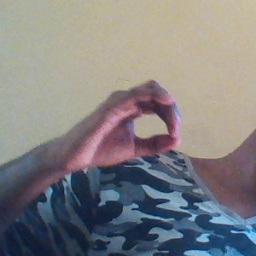O: (70, 74, 183, 172)
